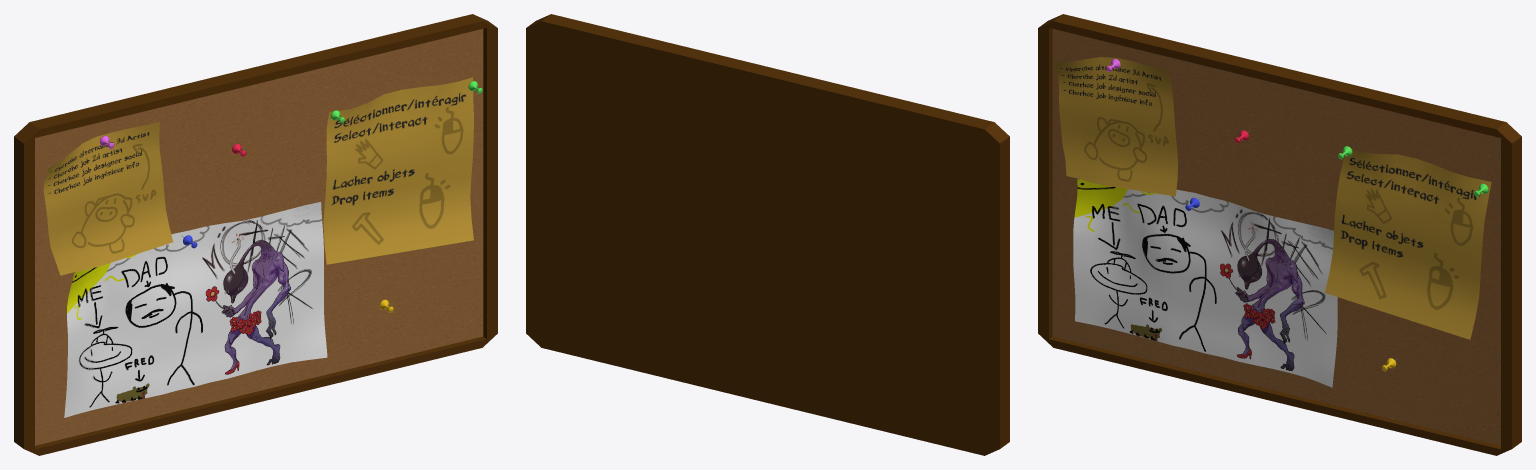
File: Tableau de liege (1).fbx
The picture shows the model from 3 angles, left to right: view 1: azimuth 30°, elevation 25°; view 2: azimuth 150°, elevation 25°; view 3: azimuth 330°, elevation 25°; orthographic projection.
Visible parts, largest first — view 1: Cube.009, Objet vide.003, Cube.010, Plan.008, Plan.007; view 2: Cube.010; view 3: Cube.009, Objet vide.003, Cube.010, Plan.008, Plan.007.
Boxes of the visible parts, x1,y1,x2,y2 form: Cube.009: (35, 29, 483, 445); Objet vide.003: (64, 202, 327, 417); Cube.010: (14, 14, 497, 455); Plan.008: (323, 77, 473, 264); Plan.007: (43, 122, 172, 275); Cube.010: (526, 14, 1009, 455); Cube.009: (1052, 29, 1500, 445); Objet vide.003: (1073, 179, 1337, 387); Cube.010: (1038, 14, 1521, 455); Plan.008: (1325, 146, 1491, 339); Plan.007: (1053, 57, 1178, 196).
Bounding box in the file's own units: 304 × 200 × 22.89.
